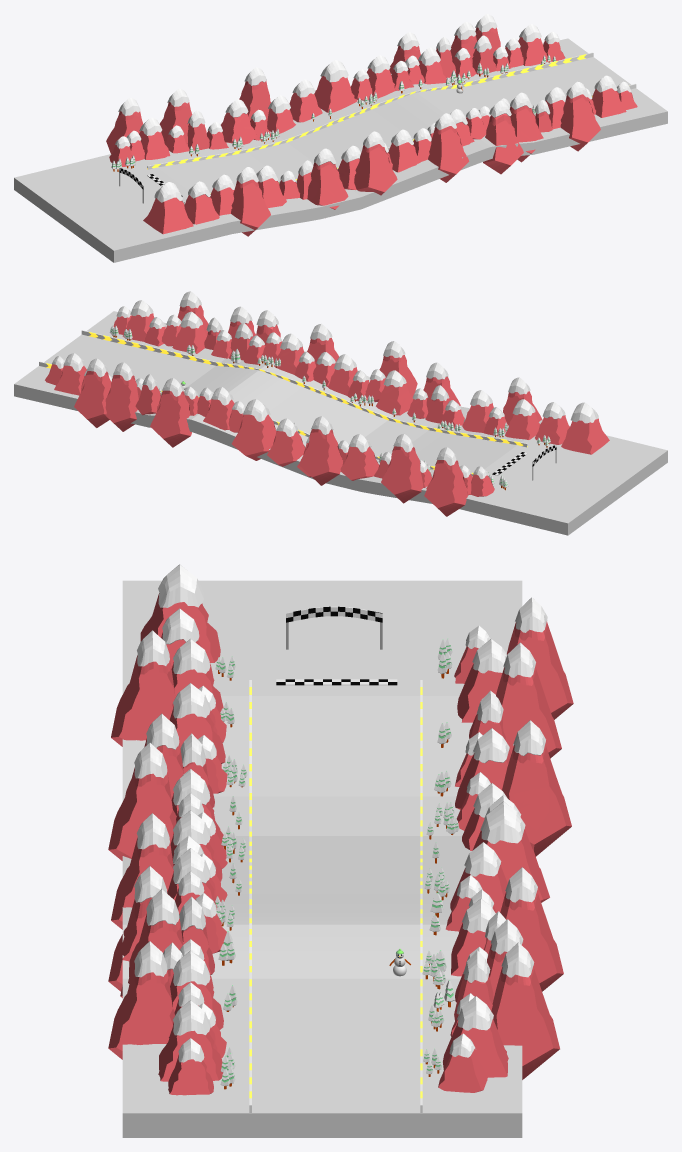
The model's file is sahne (1).fbx.
3 renders of one model, top to bottom at view 1: azimuth 30°, elevation 25°; view 2: azimuth 150°, elevation 25°; view 3: azimuth 270°, elevation 25°, orthographic. The views are drawn at different scales.
Parts seen in each view (by area): view 1: zemin, şerit.061, dağ.085, Cube.113, dağ.077, dağ.029, dağ.087, dağ.083, dağ.093, dağ, dağ.027, dağ.026 (+35 smaller); view 2: zemin, Cube.118, Cube.115, Cube.113, şerit.095, dağ.059, dağ, dağ.055, dağ.057, dağ.093, dağ.072, Cube.110 (+32 smaller); view 3: zemin, dağ.057, Cube.118, Cube.113, dağ.029, dağ.087, dağ.085, dağ.059, Cube.115, dağ.093, dağ, dağ.077 (+31 smaller).
Part boxes in pixels (box(x1,y1,x2,y2)): zemin: box(14, 38, 667, 262); şerit.061: box(147, 52, 593, 169); dağ.085: box(354, 131, 397, 195); Cube.113: box(159, 88, 209, 150); dağ.077: box(428, 113, 469, 182); dağ.029: box(560, 81, 600, 151); dağ.087: box(231, 167, 270, 236); dağ.083: box(307, 148, 348, 209); dağ.093: box(143, 182, 193, 234); dağ: box(314, 60, 357, 112); dağ.027: box(483, 113, 523, 174); dağ.026: box(509, 92, 543, 162); zemin: box(14, 311, 667, 535); Cube.118: box(299, 416, 342, 485); Cube.115: box(424, 447, 467, 516); Cube.113: box(381, 434, 423, 503); şerit.095: box(81, 330, 527, 447); dağ.059: box(150, 378, 191, 447); dağ: box(231, 399, 276, 460); dağ.055: box(105, 362, 138, 431); dağ.057: box(74, 358, 111, 427); dağ.093: box(561, 402, 609, 454); dağ.072: box(376, 370, 428, 418); Cube.110: box(340, 434, 379, 480); zemin: box(122, 580, 522, 1137); dağ.057: box(491, 942, 559, 1079); Cube.118: box(502, 720, 571, 856); Cube.113: box(471, 642, 561, 758); dağ.029: box(108, 941, 174, 1059); dağ.087: box(111, 630, 175, 746); dağ.085: box(108, 742, 176, 860); dağ.059: box(500, 867, 563, 991); Cube.115: box(507, 597, 573, 719); dağ.093: box(140, 564, 220, 662); dağ: box(474, 801, 549, 902); dağ.077: box(111, 813, 173, 929).
Bounding box in the file's own units: 92233 × 12321 × 33549.
